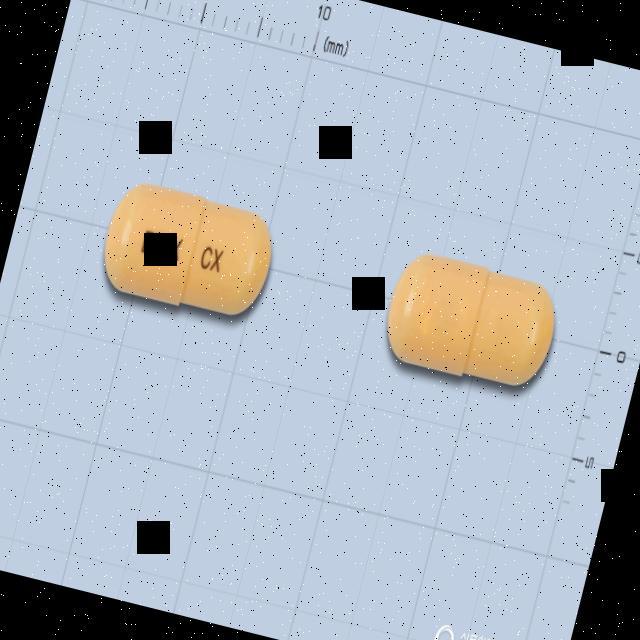Cefixime Cap- Etex: (86, 170, 286, 338)
